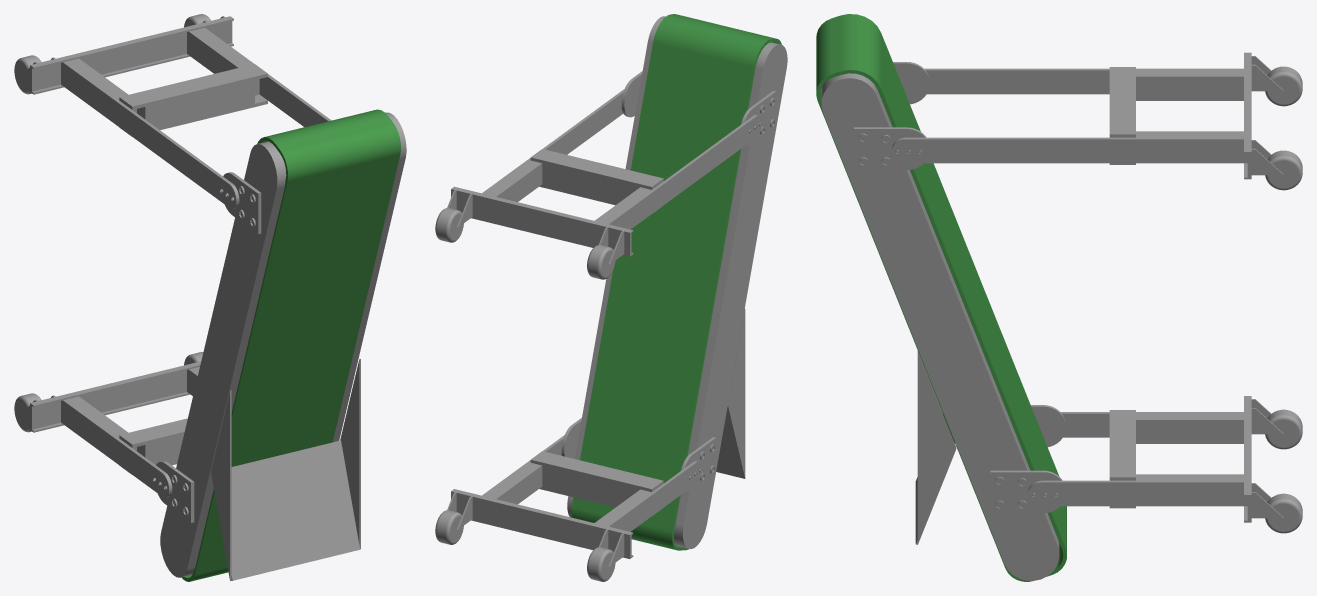
Rendered from Conveyor Belt with Hopper.obj.
The picture shows the model from 3 angles, left to right: view 1: azimuth 30°, elevation 25°; view 2: azimuth 150°, elevation 25°; view 3: azimuth 270°, elevation 25°; orthographic projection. The views are drawn at different scales.
Visible parts, largest first — view 1: Body11, Body86, Body1, Body83, Body85, Body7, Body49, Body77, Body76, Body5, Body59, Body24 (+2 smaller); view 2: Body11, Body1, Body76, Body83, Body7, Body49, Body85, Body86, Body77, Body5, Body24, Body47 (+6 smaller); view 3: Body1, Body11, Body5, Body76, Body83, Body48, Body85, Body86, Body75, Body23, Body77, Body47 (+7 smaller).
Part boxes in pixels (x1,y1,x2,y2): Body11: [182, 109, 400, 581]; Body86: [211, 359, 360, 580]; Body1: [160, 112, 406, 577]; Body83: [66, 28, 267, 136]; Body85: [61, 61, 239, 208]; Body7: [30, 16, 233, 94]; Body49: [30, 361, 201, 432]; Body77: [61, 399, 172, 497]; Body76: [66, 367, 199, 474]; Body5: [202, 27, 331, 126]; Body59: [156, 461, 194, 522]; Body24: [223, 172, 261, 234]; Body11: [571, 14, 781, 550]; Body1: [567, 16, 787, 548]; Body76: [485, 451, 663, 525]; Body83: [485, 149, 663, 223]; Body7: [451, 186, 633, 256]; Body49: [451, 489, 633, 558]; Body85: [606, 115, 762, 229]; Body86: [716, 309, 745, 478]; Body77: [606, 461, 702, 531]; Body5: [482, 89, 624, 193]; Body24: [741, 91, 776, 146]; Body47: [435, 510, 463, 544]; Body1: [821, 73, 1059, 580]; Body11: [816, 14, 1066, 581]; Body5: [892, 137, 1247, 163]; Body76: [1109, 410, 1243, 508]; Body83: [1109, 67, 1243, 164]; Body48: [1028, 480, 1247, 506]; Body85: [924, 68, 1243, 94]; Body86: [915, 351, 956, 544]; Body75: [990, 470, 1062, 513]; Body23: [854, 127, 926, 170]; Body77: [1061, 412, 1243, 437]; Body47: [1265, 493, 1302, 533].
Bounding box in the file's own units: 62 × 149 × 128.
